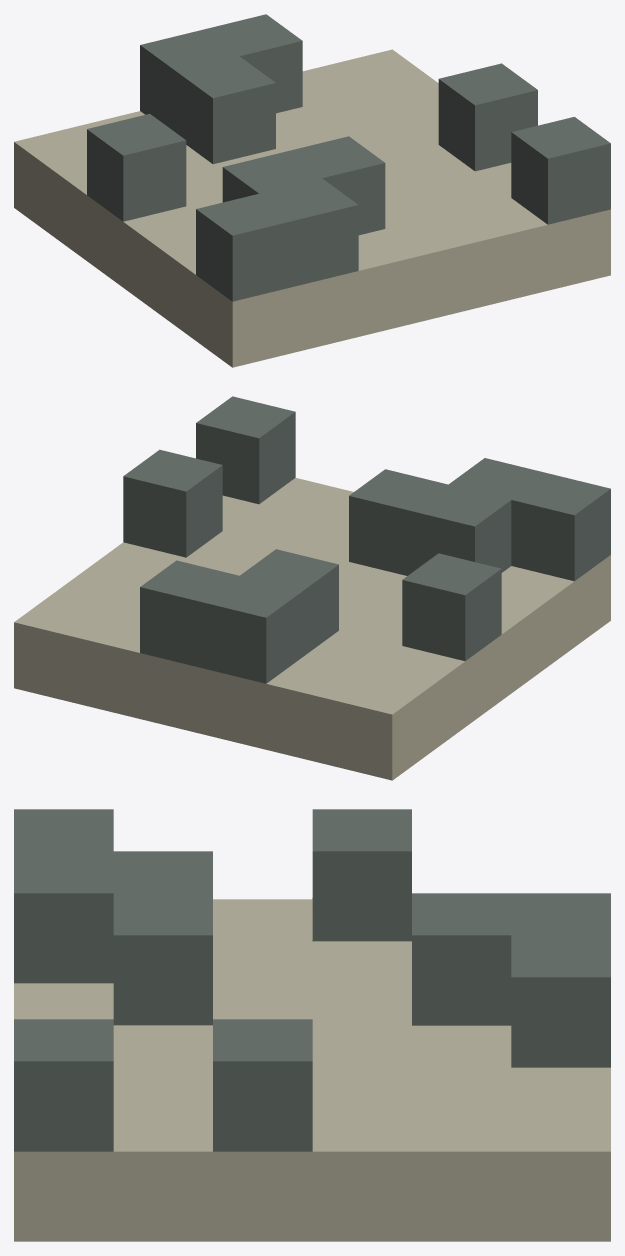
The picture shows the model from 3 angles, top to bottom: view 1: azimuth 30°, elevation 25°; view 2: azimuth 150°, elevation 25°; view 3: azimuth 270°, elevation 25°; orthographic projection. The views are drawn at different scales.
Visible parts, largest first — view 1: 5.1; view 2: 5.1; view 3: 5.1.
Boxes of the visible parts, x1,y1,x2,y2 form: 5.1: (14,14,610,367); 5.1: (14,396,610,780); 5.1: (14,809,610,1241).
Bounding box in the file's own units: 600 × 200 × 600.
